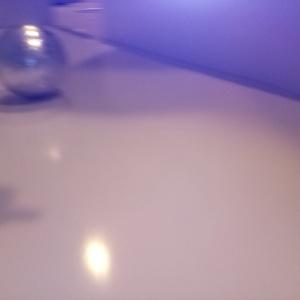alive_ball: (1, 23, 68, 98)
